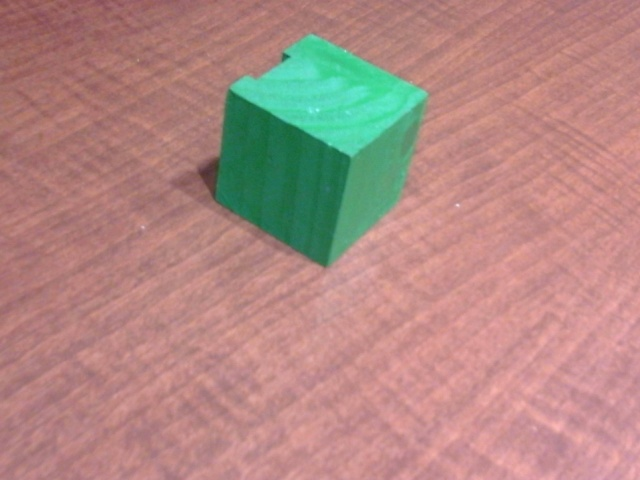GreenBlock: (213, 32, 430, 270)
